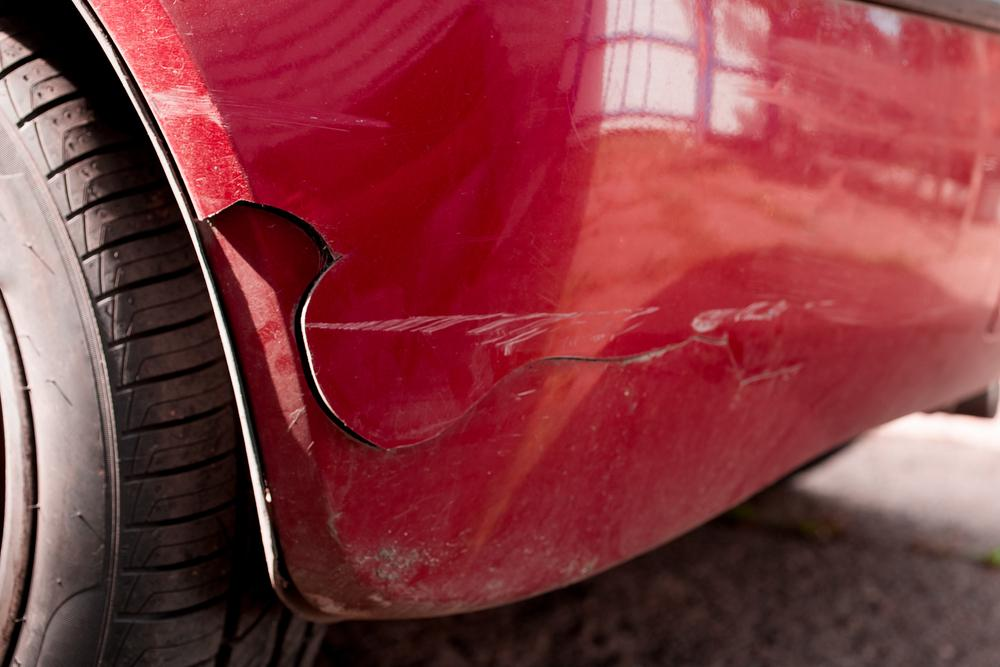crack: (202, 198, 732, 453)
scratch: (309, 295, 836, 351)
